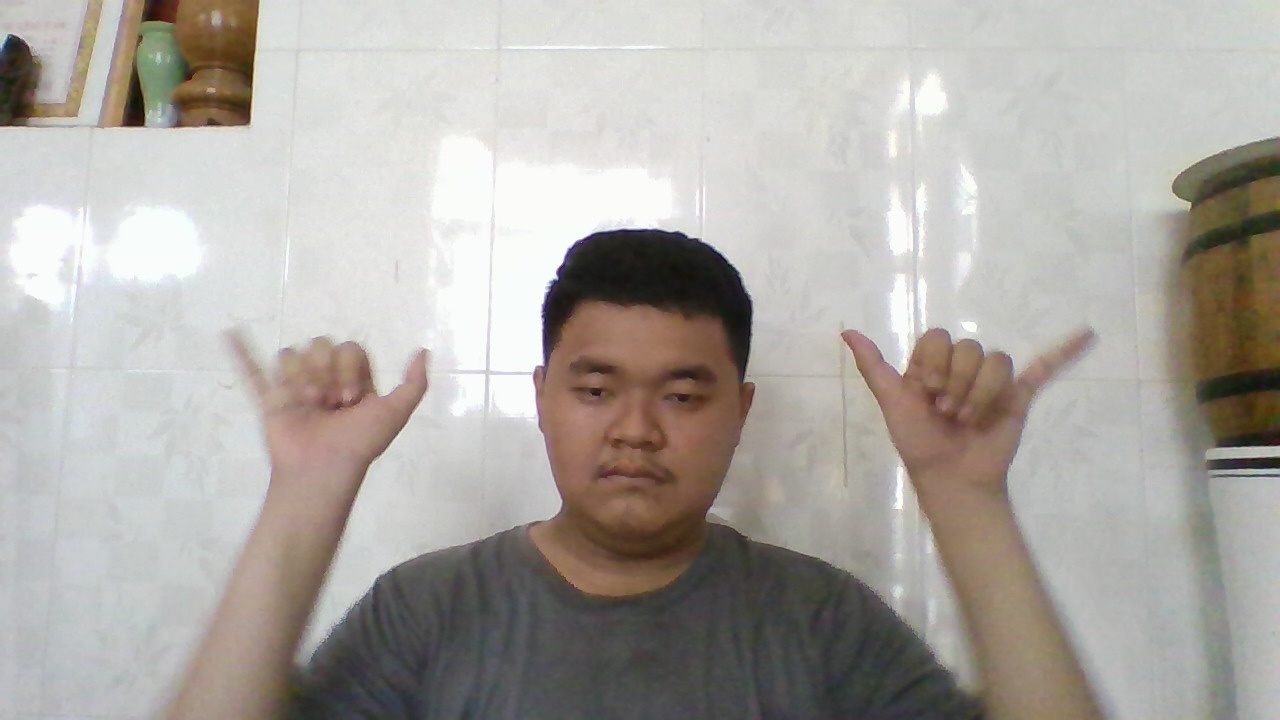Y: (834, 315, 1101, 496), (213, 319, 435, 484)
